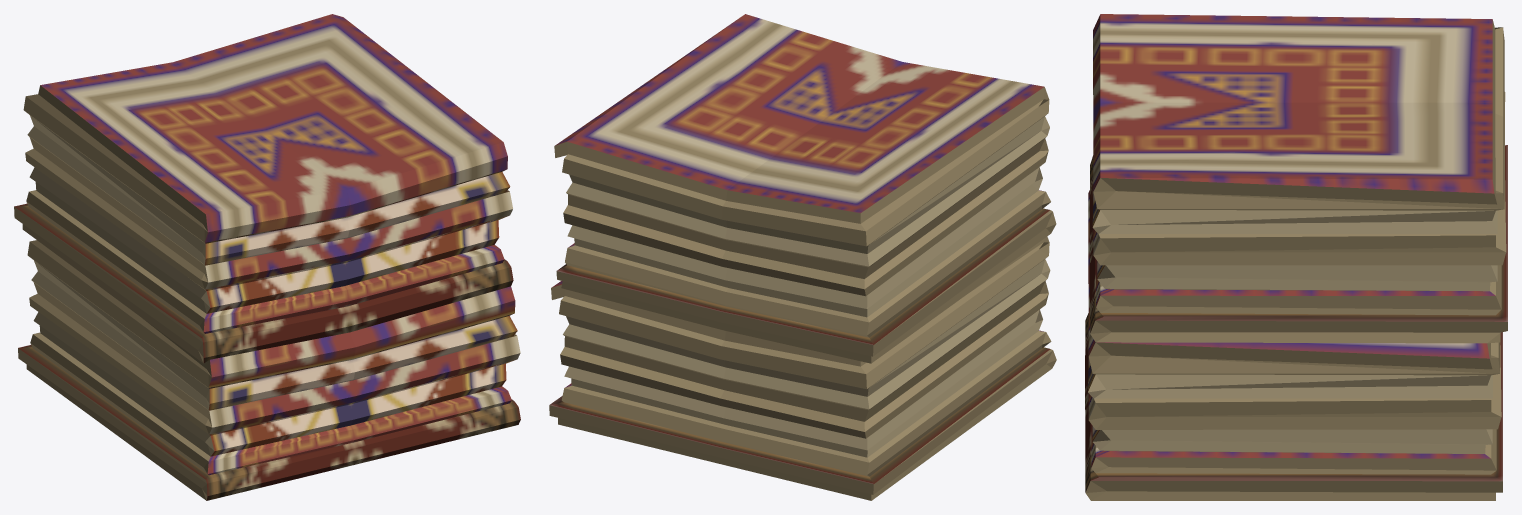
Rendered from SM_Prop_Rug_Pile_02.glb.
The picture shows the model from 3 angles, left to right: view 1: azimuth 30°, elevation 25°; view 2: azimuth 150°, elevation 25°; view 3: azimuth 270°, elevation 25°; orthographic projection. The views are drawn at different scales.
Parts seen in each view (by area): view 1: SM_Prop_Rug_Pile_02; view 2: SM_Prop_Rug_Pile_02; view 3: SM_Prop_Rug_Pile_02.
Part boxes in pixels (bbox=[...]): SM_Prop_Rug_Pile_02: bbox=[14, 14, 520, 500]; SM_Prop_Rug_Pile_02: bbox=[549, 14, 1056, 500]; SM_Prop_Rug_Pile_02: bbox=[1085, 14, 1507, 500].
Size of the model in its own units: 1.53 by 1.25 by 1.51.
Materials: 1 (1 with a texture image).
